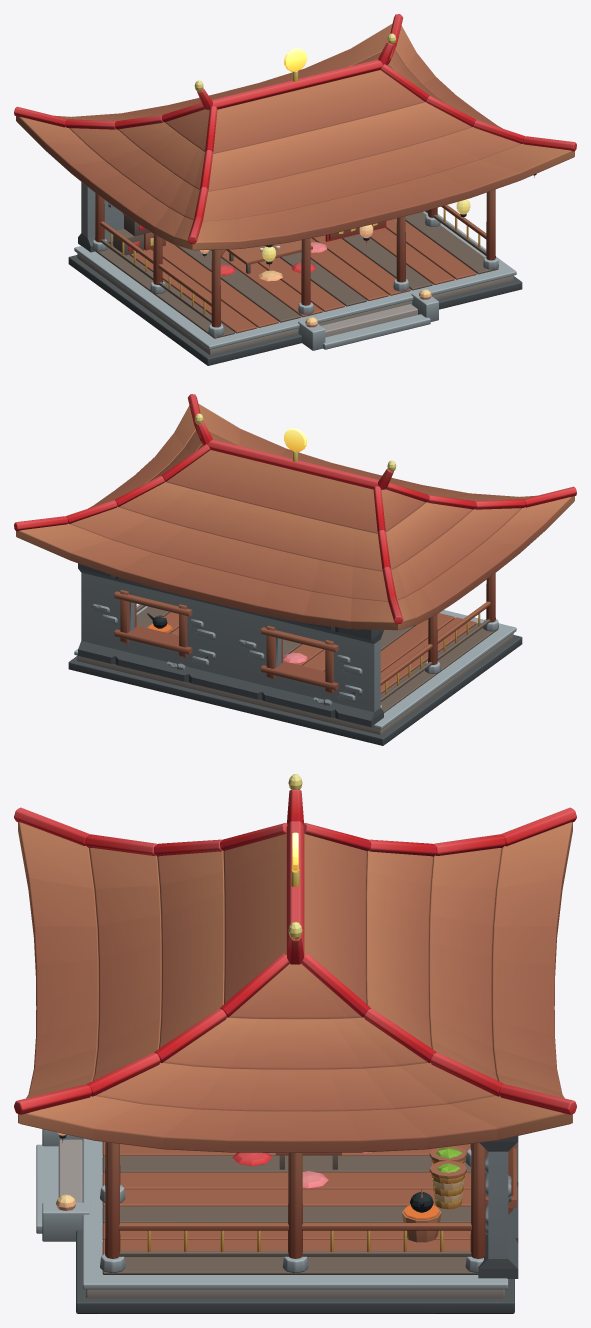
Rendered from tea_house.glb.
3 views of the same model, one above another, from view 1: azimuth 30°, elevation 25°; view 2: azimuth 150°, elevation 25°; view 3: azimuth 270°, elevation 25° (orthographic). The views are drawn at different scales.
Visible parts, largest first — view 1: tea_house; view 2: tea_house; view 3: tea_house.
Part boxes in pixels (x1=…): tea_house: x1=14, y1=14, x2=576, y2=365; tea_house: x1=14, y1=394, x2=576, y2=745; tea_house: x1=14, y1=774, x2=576, y2=1313.
Bounding box in the file's own units: 10.62 × 5.96 × 8.47.
5 materials, 5 textured.
